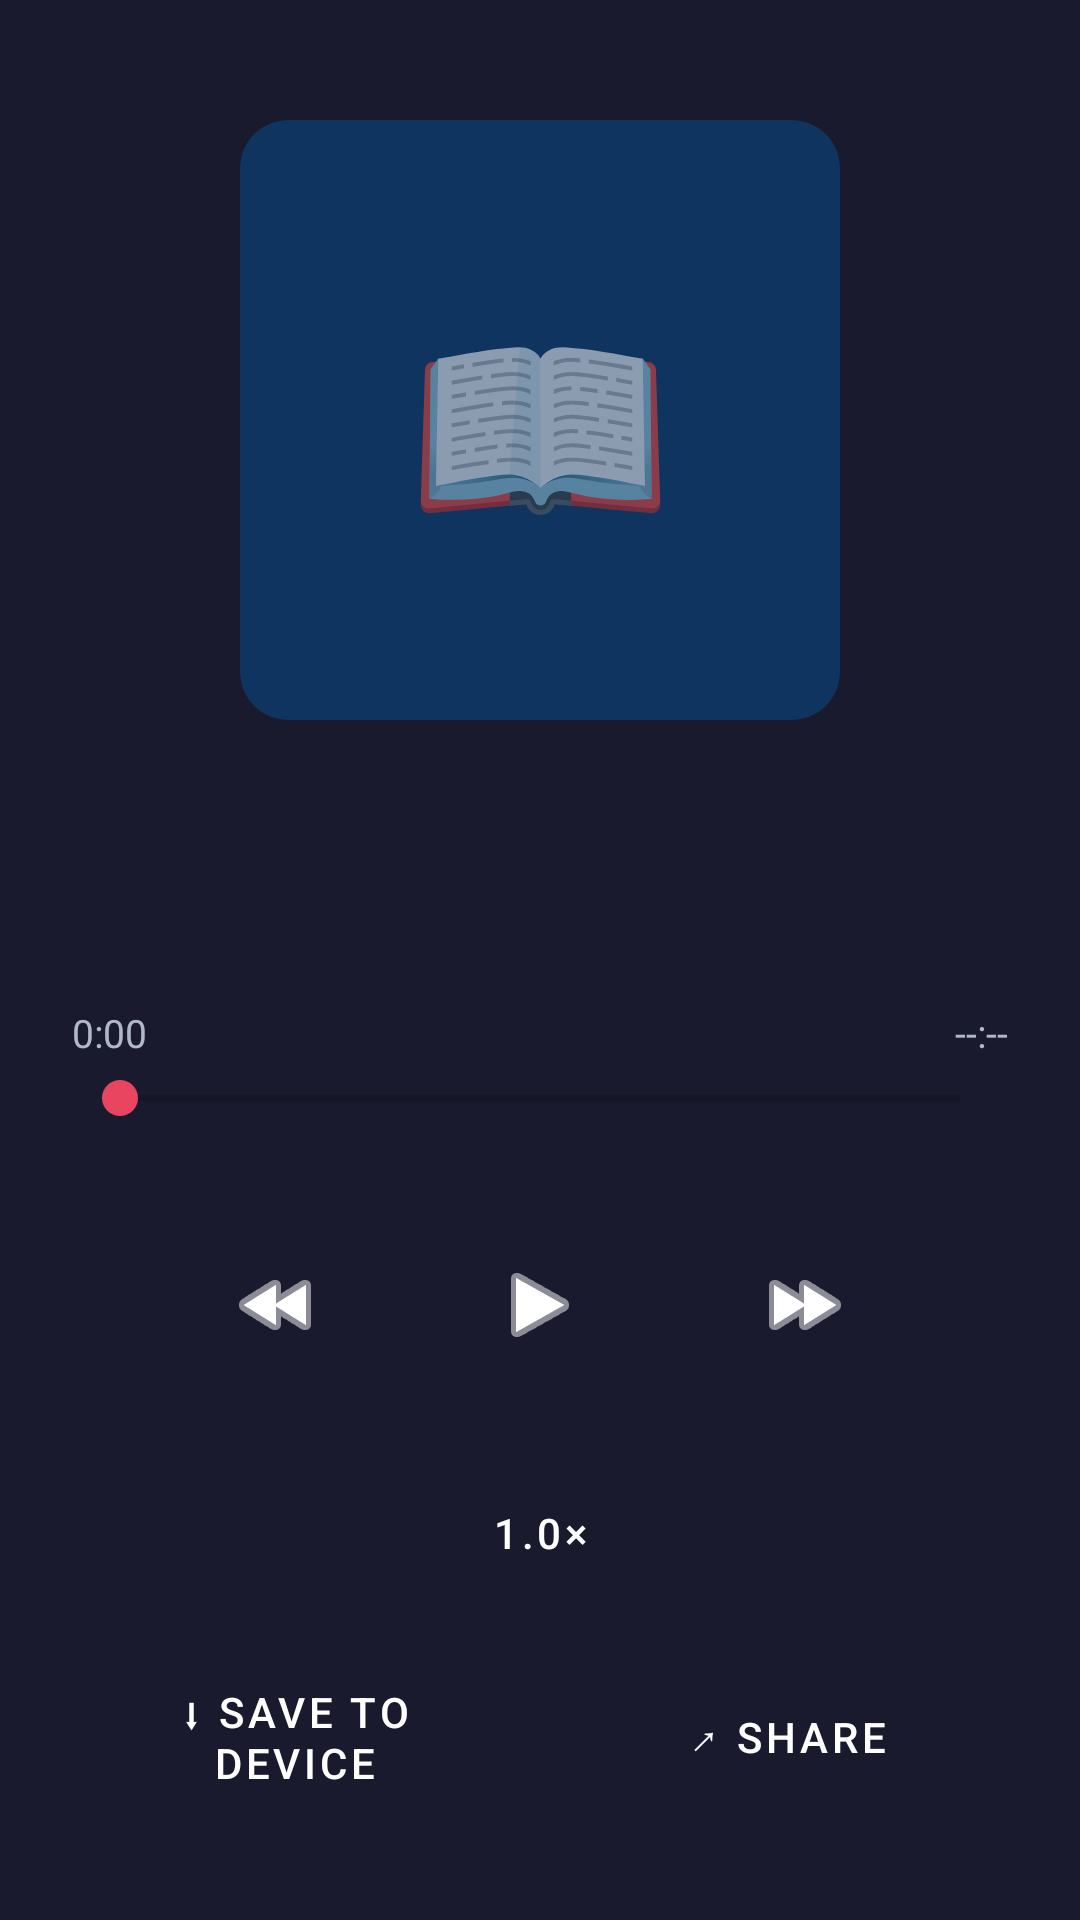

Screen size 1080*1920. Icon name, then its box in pixels as (x1, y1, x2, y2):
Play or pause: (511, 1273, 569, 1337)
Skip back 15 seconds: (239, 1280, 311, 1330)
Skip forward 30 seconds: (769, 1280, 841, 1330)
